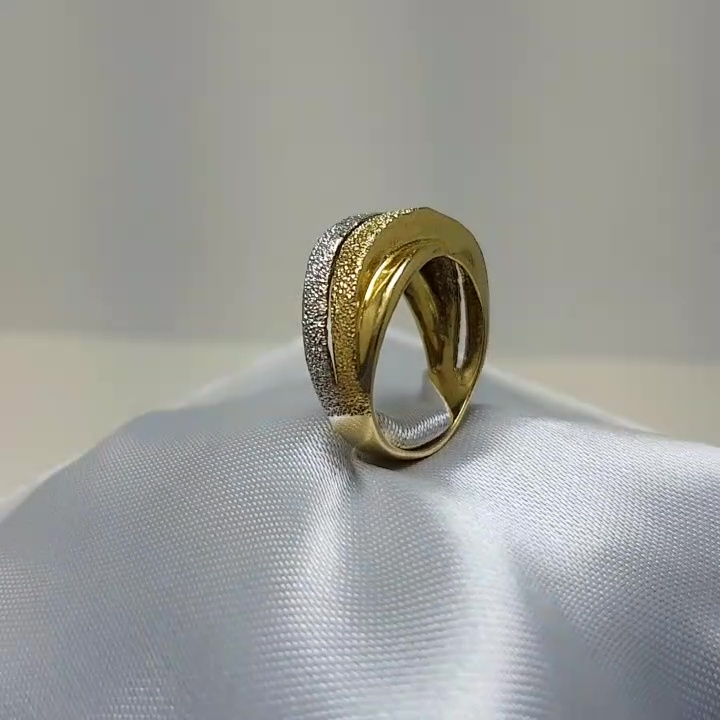Ring 5: (273, 209, 509, 472)
